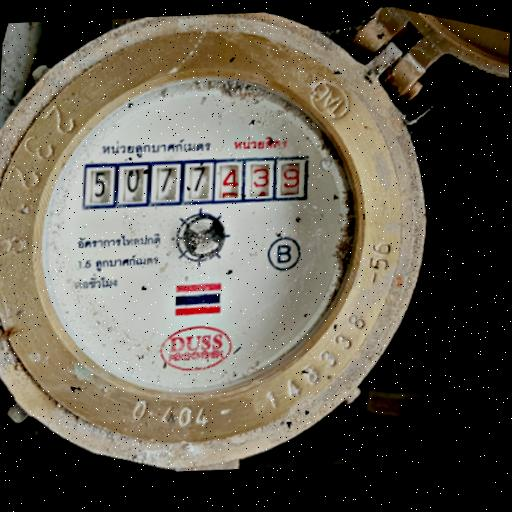0: (122, 169, 145, 202)
3: (249, 163, 270, 198)
4: (219, 165, 240, 200)
5: (90, 171, 111, 203)
7: (156, 168, 177, 201), (189, 166, 209, 199)
9: (279, 163, 301, 195)
border_water_meter_number: (82, 150, 310, 214)
